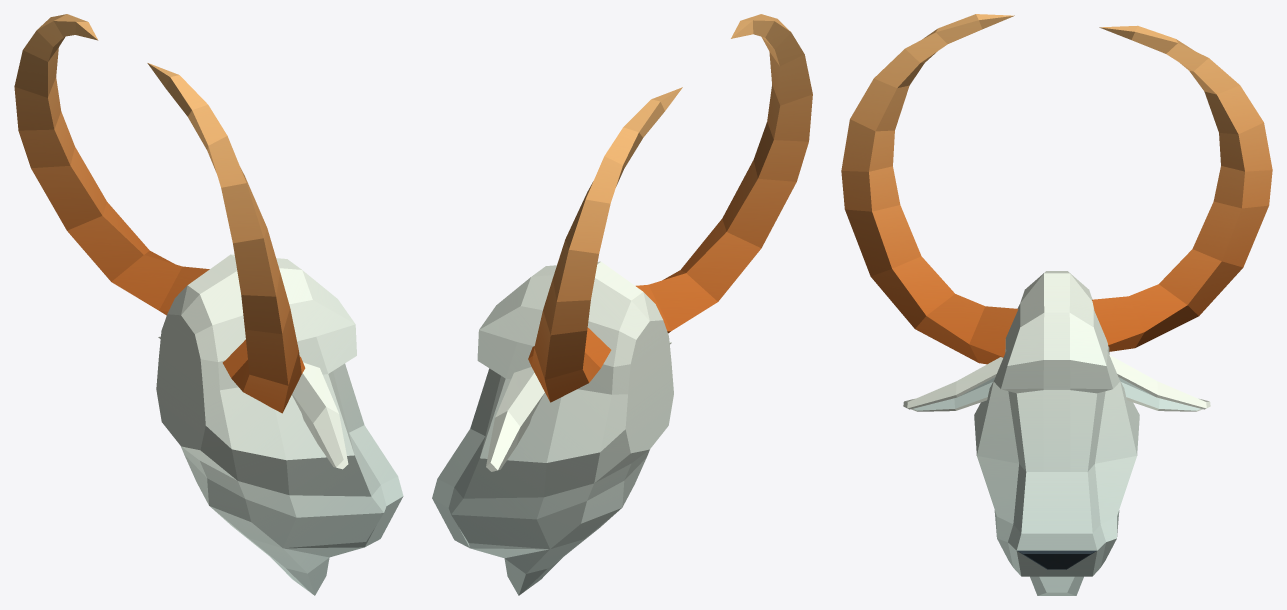
Rendered from SM_Yak_Head.fbx.
The picture shows the model from 3 angles, left to right: view 1: azimuth 30°, elevation 25°; view 2: azimuth 150°, elevation 25°; view 3: azimuth 270°, elevation 25°; orthographic projection. The views are drawn at different scales.
Visible parts, largest first — view 1: SM_Yak_Head; view 2: SM_Yak_Head; view 3: SM_Yak_Head.
Part boxes in pixels (bbox=[...]): SM_Yak_Head: bbox=[14, 14, 403, 595]; SM_Yak_Head: bbox=[432, 14, 812, 595]; SM_Yak_Head: bbox=[841, 14, 1272, 595].
Size of the model in its own units: 21.55 by 46.33 by 35.78.
